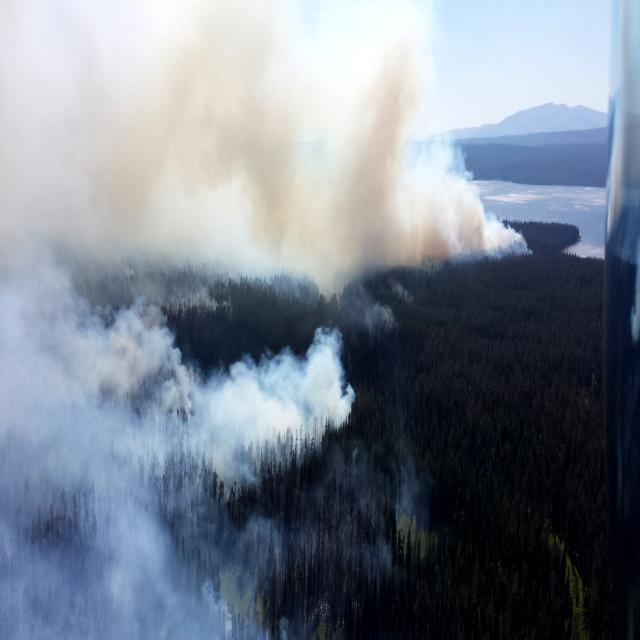Smoke: (0, 0, 527, 278), (0, 292, 344, 640)
